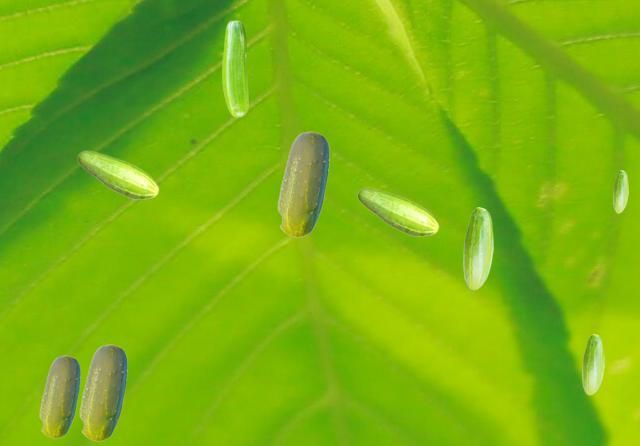cucumber: (277, 131, 328, 236), (79, 344, 126, 440), (77, 150, 158, 199), (357, 187, 438, 236), (39, 355, 79, 437), (222, 20, 247, 116), (463, 207, 492, 289), (582, 334, 603, 394), (613, 170, 627, 212)
